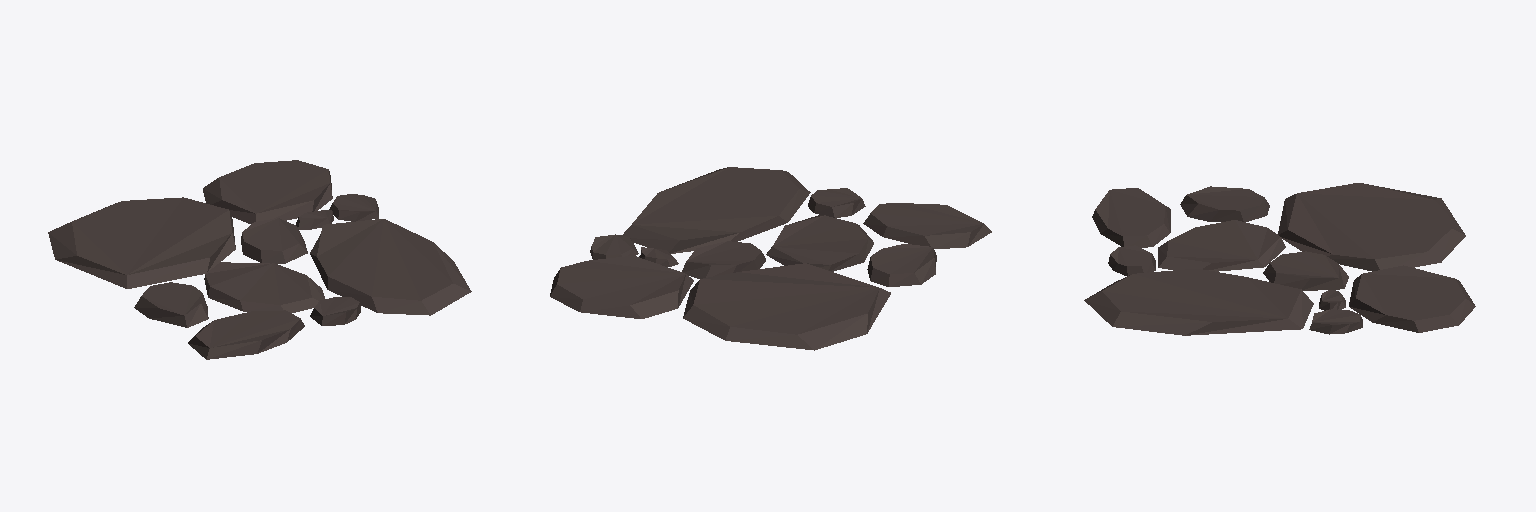
The model's file is Rock_Path.obj.
3 renders of one model, left to right at view 1: azimuth 30°, elevation 25°; view 2: azimuth 150°, elevation 25°; view 3: azimuth 270°, elevation 25°, orthographic.
Parts seen in each view (by area): view 1: group22 group15 pCylinder2, group22 group15 pasted__pasted__pCylinder4, pasted__pCylinder2 group22 group15, group22 group15 pasted__pasted__pCylinder2, group22 group15 pasted__pasted__pasted__pasted__pCylinder3, group22 group15 pasted__pasted__pasted__pasted__pCylinder2, group22 group15 pasted__pasted__pasted__pCylinder2, group22 group15 pasted__pasted__pasted__pCylinder3, group22 group15 pasted__pasted__pCylinder3, group22 group15 pasted__pasted__pasted__pCylinder4; view 2: group22 group15 pCylinder2, group22 group15 pasted__pasted__pCylinder4, pasted__pCylinder2 group22 group15, group22 group15 pasted__pasted__pCylinder2, group22 group15 pasted__pasted__pasted__pasted__pCylinder3, group22 group15 pasted__pasted__pasted__pasted__pCylinder2, group22 group15 pasted__pasted__pasted__pCylinder2, group22 group15 pasted__pasted__pasted__pCylinder3, group22 group15 pasted__pasted__pCylinder3; view 3: group22 group15 pCylinder2, group22 group15 pasted__pasted__pCylinder4, pasted__pCylinder2 group22 group15, group22 group15 pasted__pasted__pCylinder2, group22 group15 pasted__pasted__pasted__pasted__pCylinder3, group22 group15 pasted__pasted__pasted__pasted__pCylinder2, group22 group15 pasted__pasted__pasted__pCylinder2, group22 group15 pasted__pasted__pasted__pCylinder3, group22 group15 pasted__pasted__pCylinder3.
Boxes of the visible parts, box(x1,y1,x2,y2) form: group22 group15 pCylinder2: box(48, 197, 235, 288); group22 group15 pasted__pasted__pCylinder4: box(310, 219, 471, 315); pasted__pCylinder2 group22 group15: box(203, 160, 332, 223); group22 group15 pasted__pasted__pCylinder2: box(204, 262, 324, 312); group22 group15 pasted__pasted__pasted__pasted__pCylinder3: box(188, 310, 304, 359); group22 group15 pasted__pasted__pasted__pasted__pCylinder2: box(134, 282, 208, 327); group22 group15 pasted__pasted__pasted__pCylinder2: box(241, 218, 307, 263); group22 group15 pasted__pasted__pasted__pCylinder3: box(310, 297, 360, 325); group22 group15 pasted__pasted__pCylinder3: box(329, 194, 378, 221); group22 group15 pasted__pasted__pasted__pCylinder4: box(296, 210, 333, 229); group22 group15 pCylinder2: box(683, 263, 890, 350); group22 group15 pasted__pasted__pCylinder4: box(622, 167, 810, 253); pasted__pCylinder2 group22 group15: box(550, 256, 693, 318); group22 group15 pasted__pasted__pCylinder2: box(766, 215, 873, 271); group22 group15 pasted__pasted__pasted__pasted__pCylinder3: box(863, 203, 991, 248); group22 group15 pasted__pasted__pasted__pasted__pCylinder2: box(867, 244, 936, 286); group22 group15 pasted__pasted__pasted__pCylinder2: box(682, 241, 765, 278); group22 group15 pasted__pasted__pasted__pCylinder3: box(808, 188, 865, 217); group22 group15 pasted__pasted__pCylinder3: box(590, 234, 638, 259); group22 group15 pCylinder2: box(1278, 183, 1465, 271); group22 group15 pasted__pasted__pCylinder4: box(1084, 269, 1313, 335); pasted__pCylinder2 group22 group15: box(1349, 265, 1475, 332); group22 group15 pasted__pasted__pCylinder2: box(1158, 220, 1285, 271); group22 group15 pasted__pasted__pasted__pasted__pCylinder3: box(1092, 188, 1170, 247); group22 group15 pasted__pasted__pasted__pasted__pCylinder2: box(1180, 186, 1269, 221); group22 group15 pasted__pasted__pasted__pCylinder2: box(1263, 251, 1348, 290); group22 group15 pasted__pasted__pasted__pCylinder3: box(1108, 245, 1155, 275); group22 group15 pasted__pasted__pCylinder3: box(1309, 309, 1362, 334).
Bounding box in the file's own units: 2.23 × 0.0943 × 2.52.